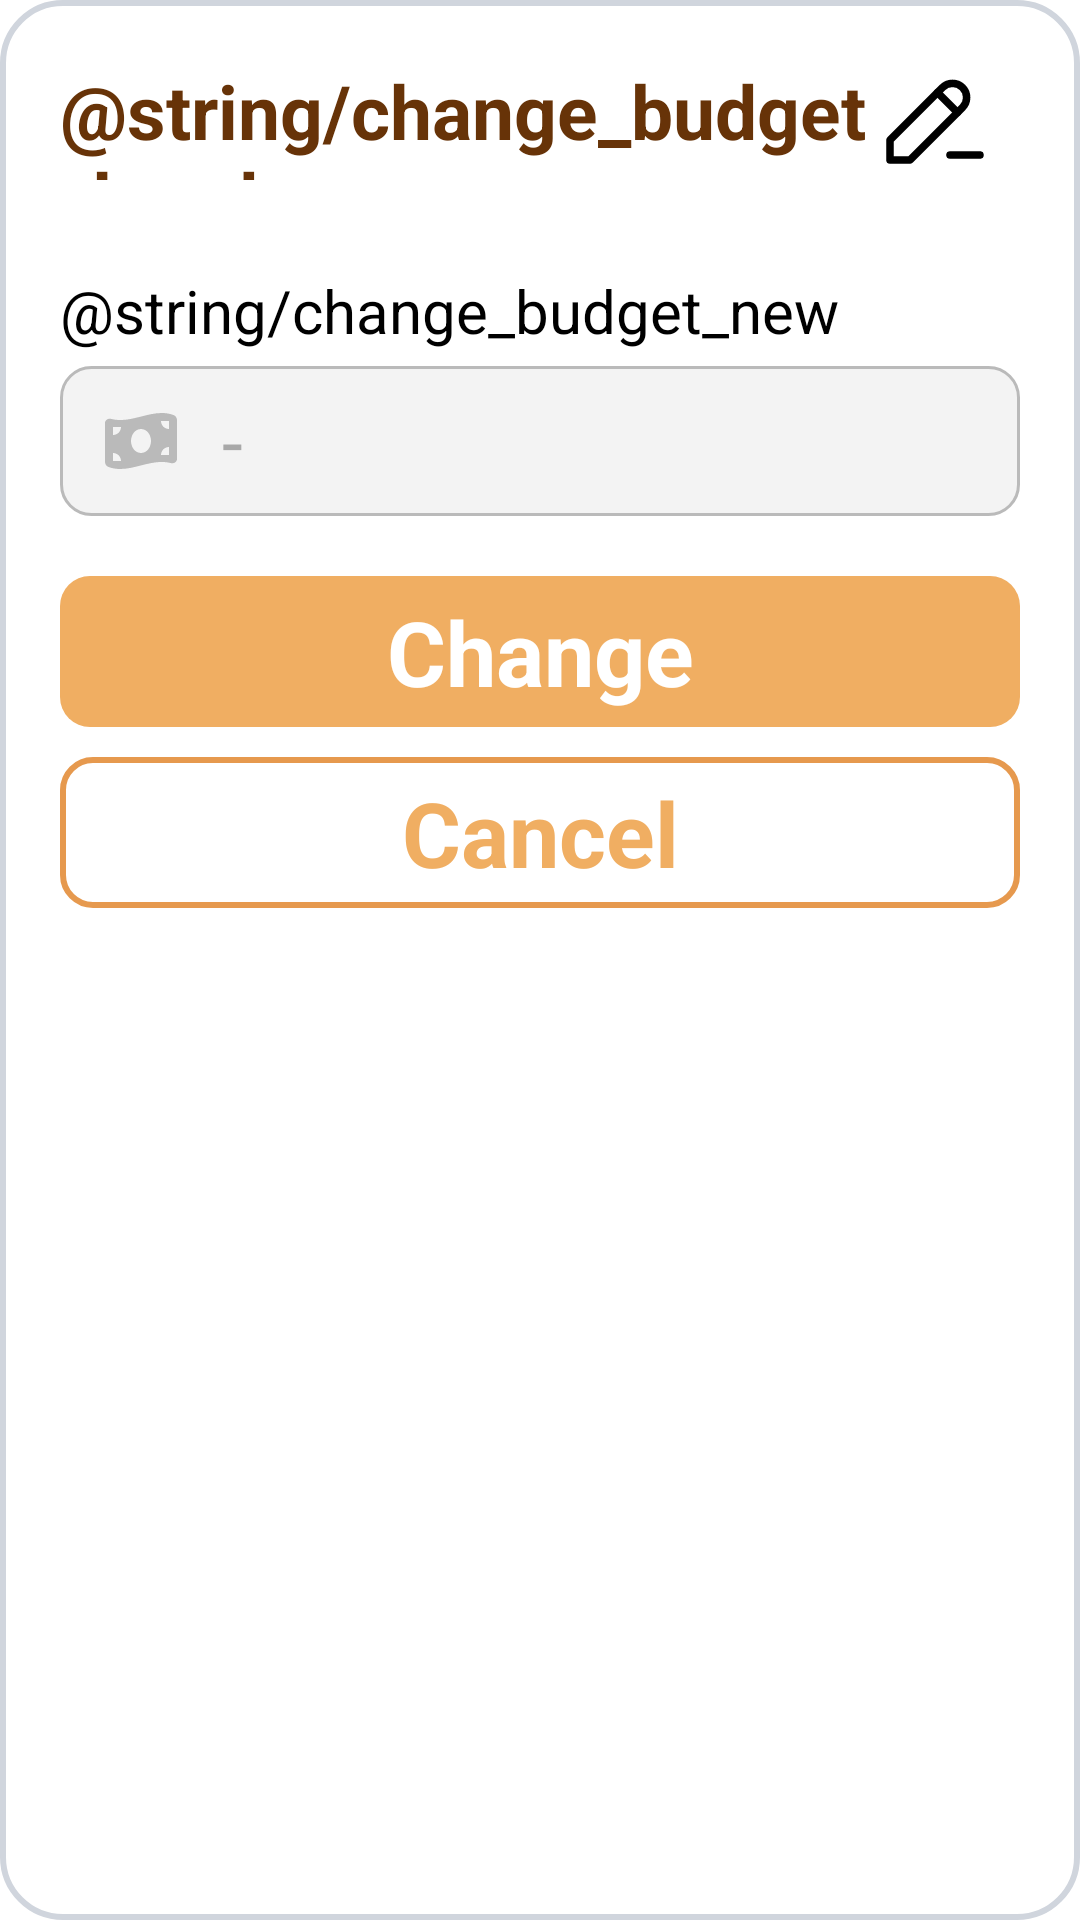

Icons on this 1080 × 1920 Android screen, each with its box as (x1, y1, x2, y2):
pencil: (886, 79, 984, 164)
